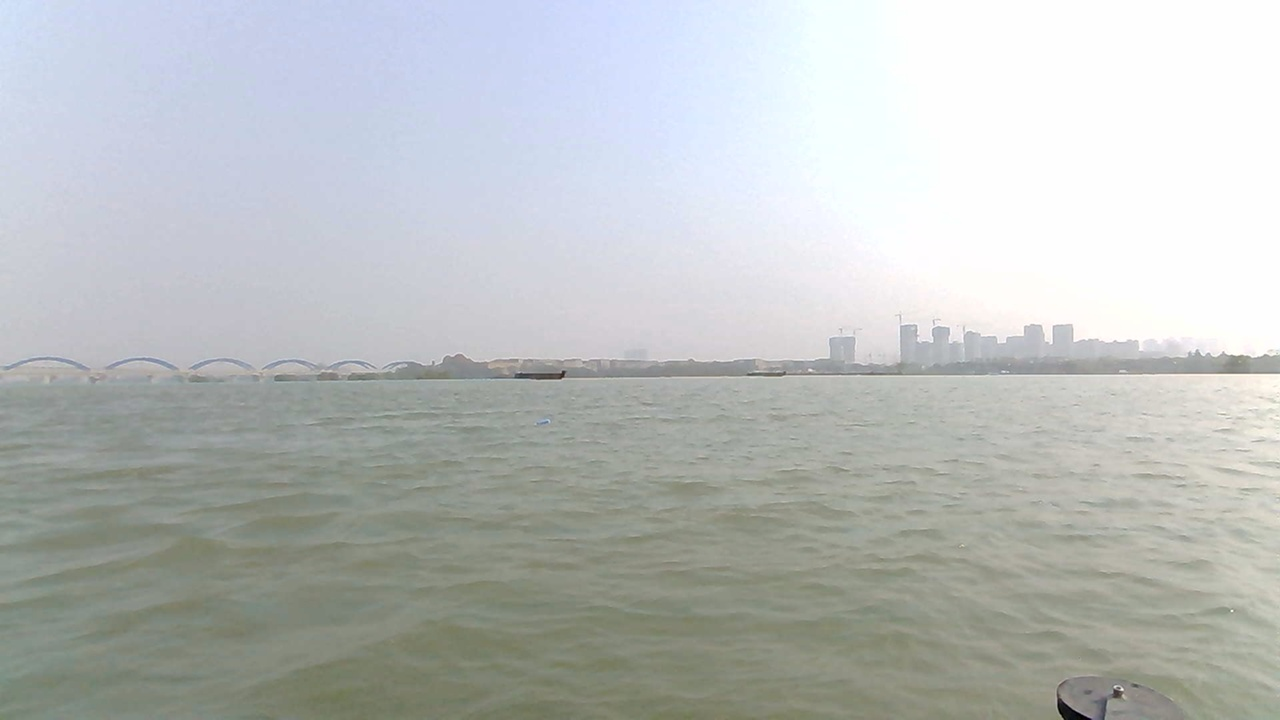bottle: (529, 415, 557, 428)
